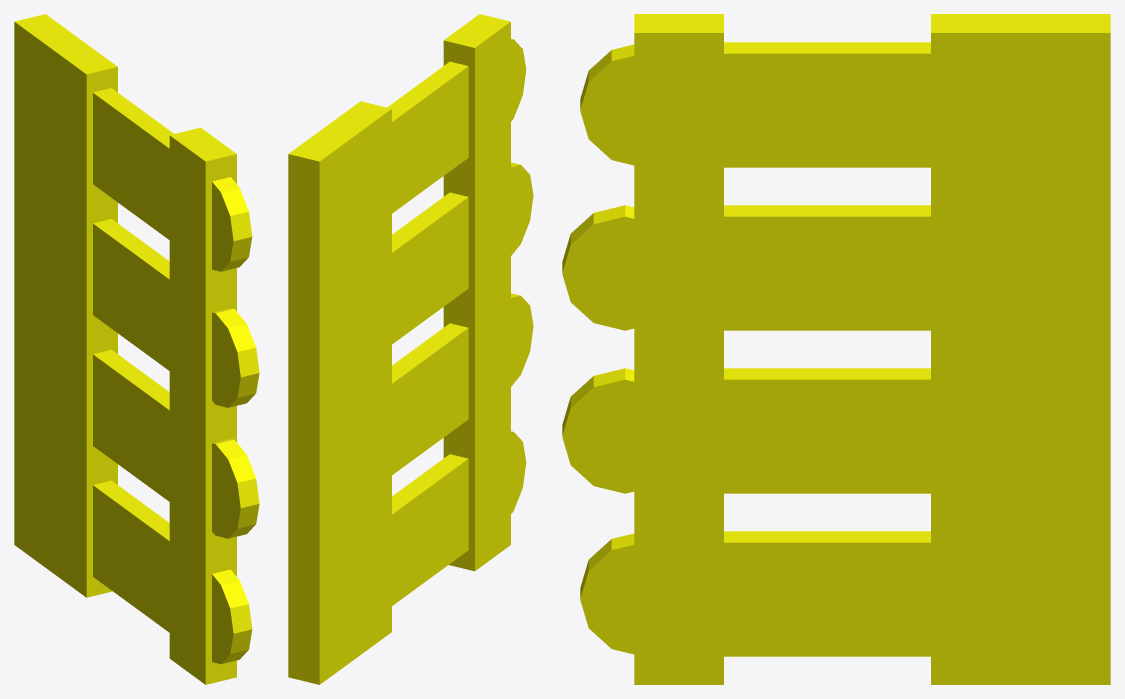
Rendered from nil_link_mesh.dae.
3 renders of one model, left to right at view 1: azimuth 30°, elevation 25°; view 2: azimuth 150°, elevation 25°; view 3: azimuth 270°, elevation 25°, orthographic. The views are drawn at different scales.
Visible parts, largest first — view 1: nil_link; view 2: nil_link; view 3: nil_link.
Part boxes in pixels (left/top/right/bottom): nil_link: left=14, top=14, right=259, bottom=684; nil_link: left=288, top=14, right=533, bottom=684; nil_link: left=562, top=14, right=1110, bottom=684.
Size of the model in its own units: 0.05 by 0.8 by 0.61.
